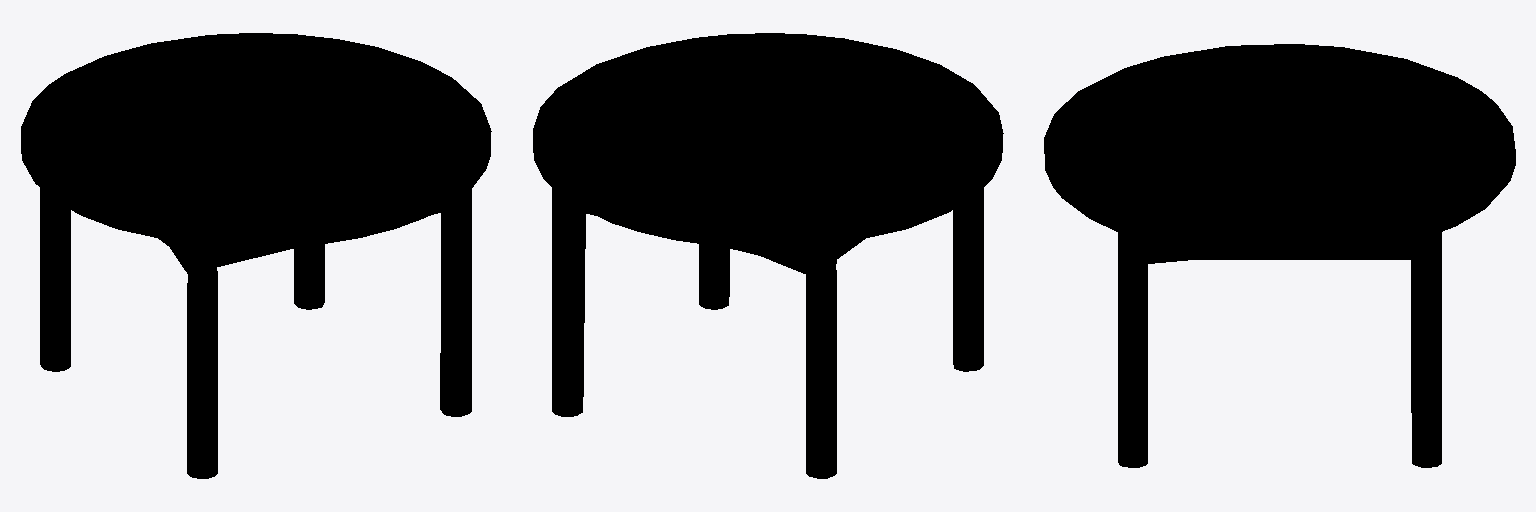
robot.urdf — table:
<?xml version="1.0" ?>
<robot name="table">
  <link name="baseLink">
    <contact>
      <lateral_friction value="1.0"/>
      <rolling_friction value="0.0"/>
      <contact_cfm value="0.0"/>
      <contact_erp value="1.0"/>
    </contact>
    <inertial>
      <origin rpy="0 0 0" xyz="0.0 0.0 0.8387"/>
       <mass value="15.0"/>
       <inertia ixx="3.27780533" ixy="-0.00000134" ixz="0.00028047" iyy="3.27788505" iyz="0.0" izz="5.23985159"/>
    </inertial>
    <visual>
      <origin rpy="0 0 0" xyz="0.0 0.0 0.8387"/>
      <geometry>
        <mesh filename="../obj/table_vhacd.obj" scale="0.02 0.02 0.02"/>
      </geometry>
       <material name="black">
        <color rgba="0 0 0 1"/>
      </material>
    </visual>
    <collision>
      <origin rpy="0 0 0" xyz="0.0 0.0 0.8387"/>
      <geometry>
	 	<mesh filename="../obj/table_vhacd.obj" scale="0.02 0.02 0.02"/>
      </geometry>
    </collision>
  </link>
</robot>

--- Facts derived from the render (not from the file) ---
The picture shows the robot from 3 angles, left to right: view 1: azimuth 30°, elevation 25°; view 2: azimuth 150°, elevation 25°; view 3: azimuth 270°, elevation 25°; orthographic projection.
Model table with 1 links and 0 joints (none), rooted at baseLink, posed all joints at 0.
Visible links, largest first — view 1: baseLink; view 2: baseLink; view 3: baseLink.
Link boxes in pixels (left/top/right/bottom): baseLink: left=21, top=33, right=491, bottom=478; baseLink: left=533, top=33, right=1003, bottom=478; baseLink: left=1044, top=44, right=1515, bottom=467.
Size in the robot's own frame: 1.6 by 1.6 by 0.9618 metres.
Meshes: 1 distinct files referenced, 1 mesh visuals loaded (1 OBJ).
